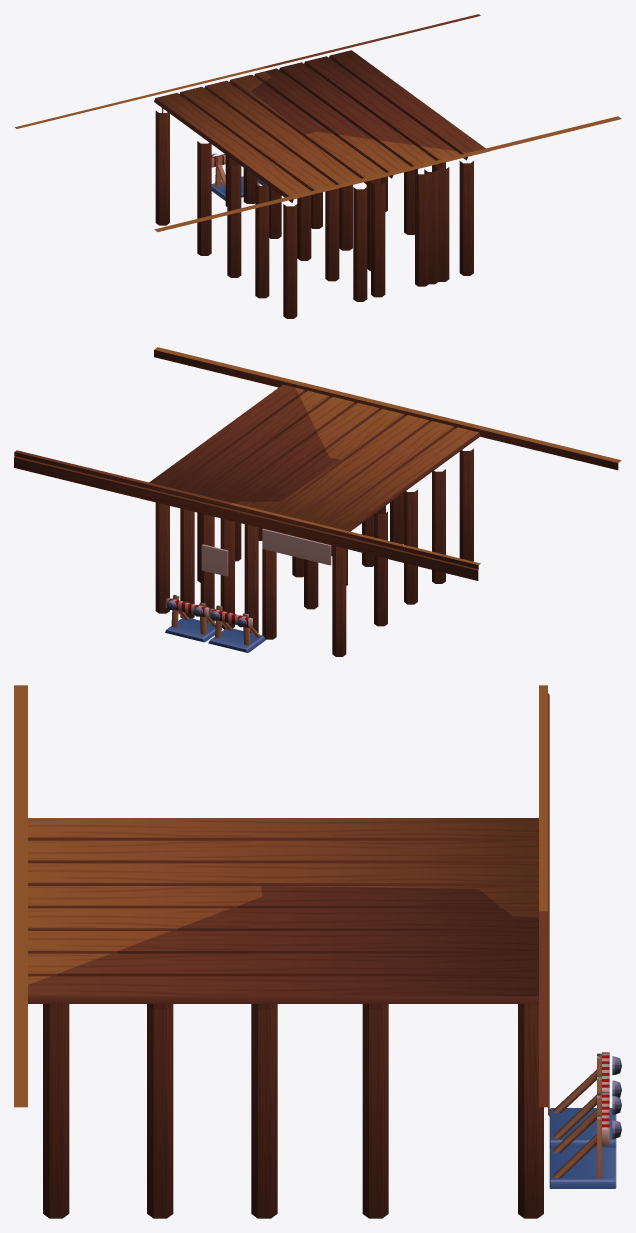
The model's file is 1.100_SanFrancisco_gates_right.glb.
3 renders of one model, top to bottom at view 1: azimuth 30°, elevation 25°; view 2: azimuth 150°, elevation 25°; view 3: azimuth 270°, elevation 25°, orthographic. The views are drawn at different scales.
Visible parts, largest first — view 1: 1.100_SanFrancisco_gates_right; view 2: 1.100_SanFrancisco_gates_right; view 3: 1.100_SanFrancisco_gates_right.
Part boxes in pixels (box(x1,y1,x2,y2)): 1.100_SanFrancisco_gates_right: box(15, 14, 621, 318); 1.100_SanFrancisco_gates_right: box(14, 347, 621, 656); 1.100_SanFrancisco_gates_right: box(14, 685, 621, 1218).
Bounding box in the file's own units: 214 × 56.06 × 130.
2 materials, 2 textured.
